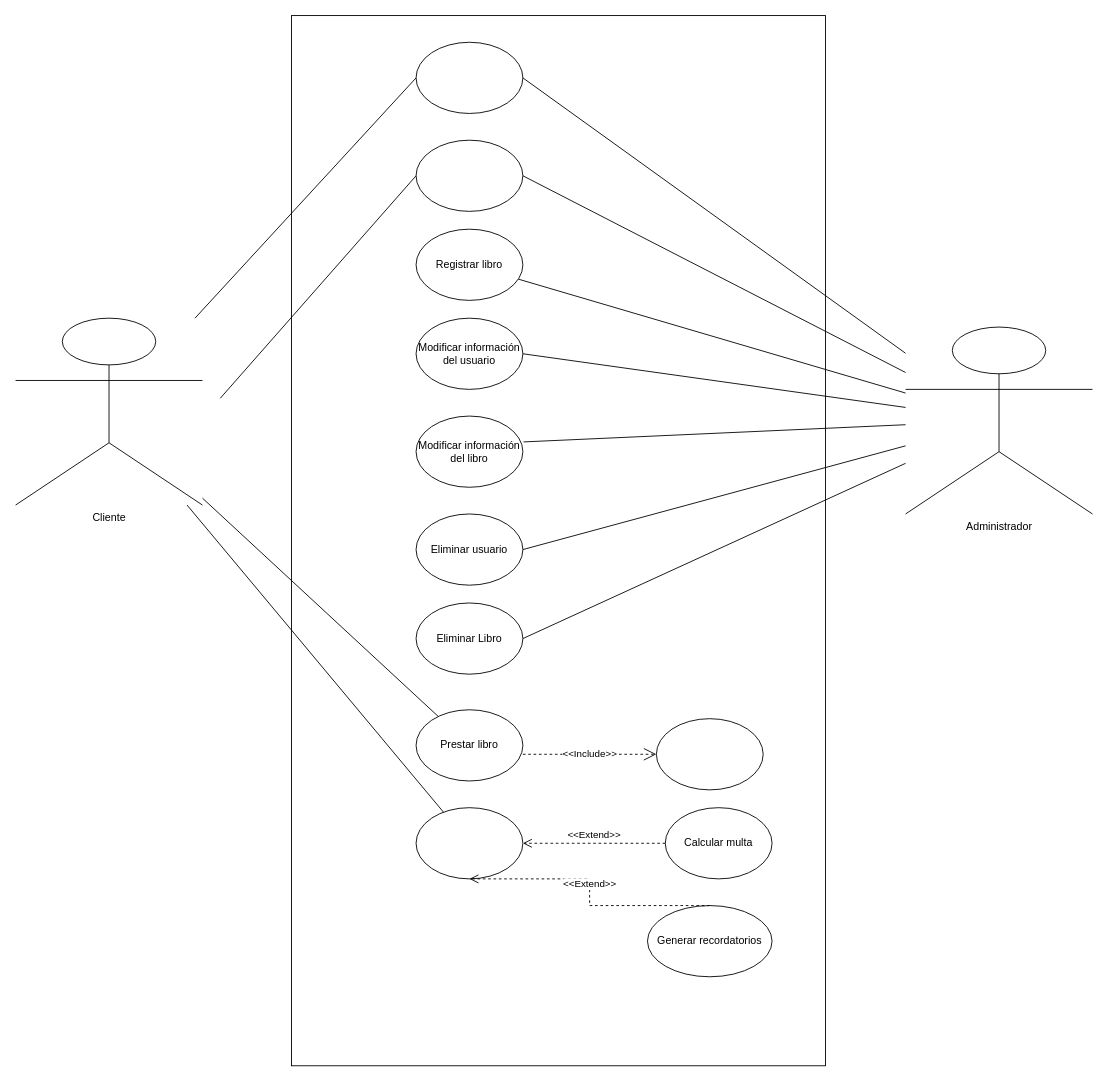
Image size: 1108x1081. Some labels were removed from this diagram. Each missing label, with the box of its shape:
Buscar libro: (655, 718, 763, 790)
Devolver libro: (415, 807, 523, 879)
Ingresar al sistema: (415, 41, 523, 113)
Registrar usuario: (415, 139, 523, 211)
